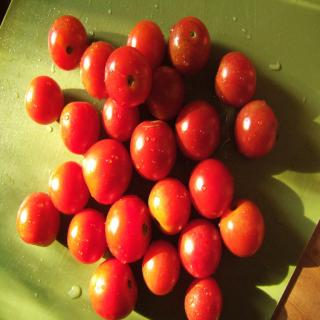tomato: (82, 138, 132, 204), (105, 194, 152, 263), (130, 117, 178, 183), (89, 258, 138, 320), (104, 44, 152, 107), (175, 98, 221, 159), (219, 199, 265, 259), (177, 219, 222, 277), (168, 17, 212, 74), (16, 191, 59, 248), (47, 15, 90, 72), (190, 160, 232, 218), (147, 177, 190, 233), (216, 50, 256, 108), (58, 100, 100, 155), (80, 41, 118, 101), (68, 206, 107, 264), (142, 239, 180, 297), (49, 161, 90, 214), (147, 64, 183, 120), (24, 74, 63, 124), (127, 20, 165, 70), (102, 96, 140, 140), (185, 276, 222, 319)
